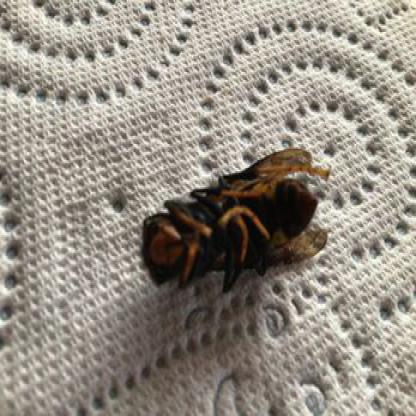Asian Hornet: (137, 143, 333, 288)
